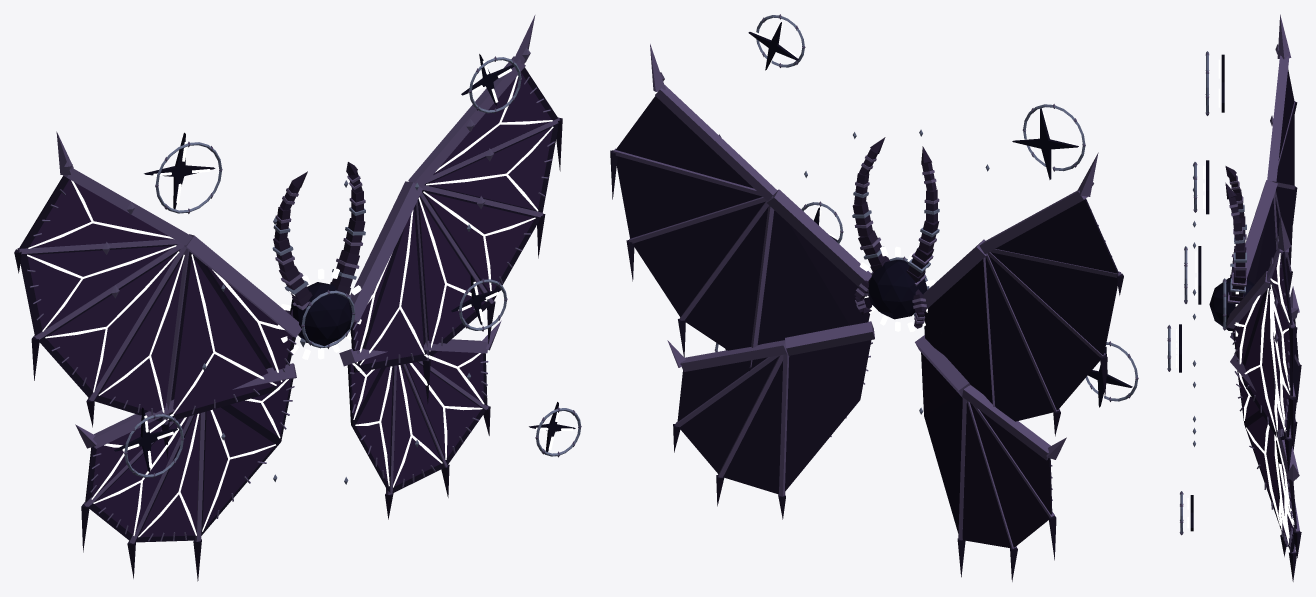
Rendered from preserved-rewards.glb.
The picture shows the model from 3 angles, left to right: view 1: azimuth 30°, elevation 25°; view 2: azimuth 150°, elevation 25°; view 3: azimuth 270°, elevation 25°; orthographic projection. The views are drawn at different scales.
Parts seen in each view (by area): view 1: apostle-wings-mesh, apostle-aura-mesh, apostle-crown-mesh, apostle-weapon-mesh; view 2: apostle-wings-mesh, apostle-crown-mesh, apostle-aura-mesh, apostle-weapon-mesh; view 3: apostle-wings-mesh, apostle-aura-mesh, apostle-crown-mesh, apostle-weapon-mesh.
Boxes of the visible parts, bbox=[...] form: apostle-wings-mesh: bbox=[14, 15, 562, 581]; apostle-aura-mesh: bbox=[114, 54, 581, 484]; apostle-crown-mesh: bbox=[272, 162, 365, 347]; apostle-weapon-mesh: bbox=[278, 268, 361, 359]; apostle-wings-mesh: bbox=[610, 44, 1123, 581]; apostle-crown-mesh: bbox=[852, 137, 939, 328]; apostle-aura-mesh: bbox=[714, 14, 1138, 414]; apostle-weapon-mesh: bbox=[859, 246, 935, 331]; apostle-wings-mesh: bbox=[1226, 14, 1301, 581]; apostle-aura-mesh: bbox=[1167, 51, 1224, 535]; apostle-crown-mesh: bbox=[1225, 166, 1246, 303]; apostle-weapon-mesh: bbox=[1209, 278, 1254, 336].
Bounding box in the file's own units: 2.65 × 2.33 × 0.6567.
